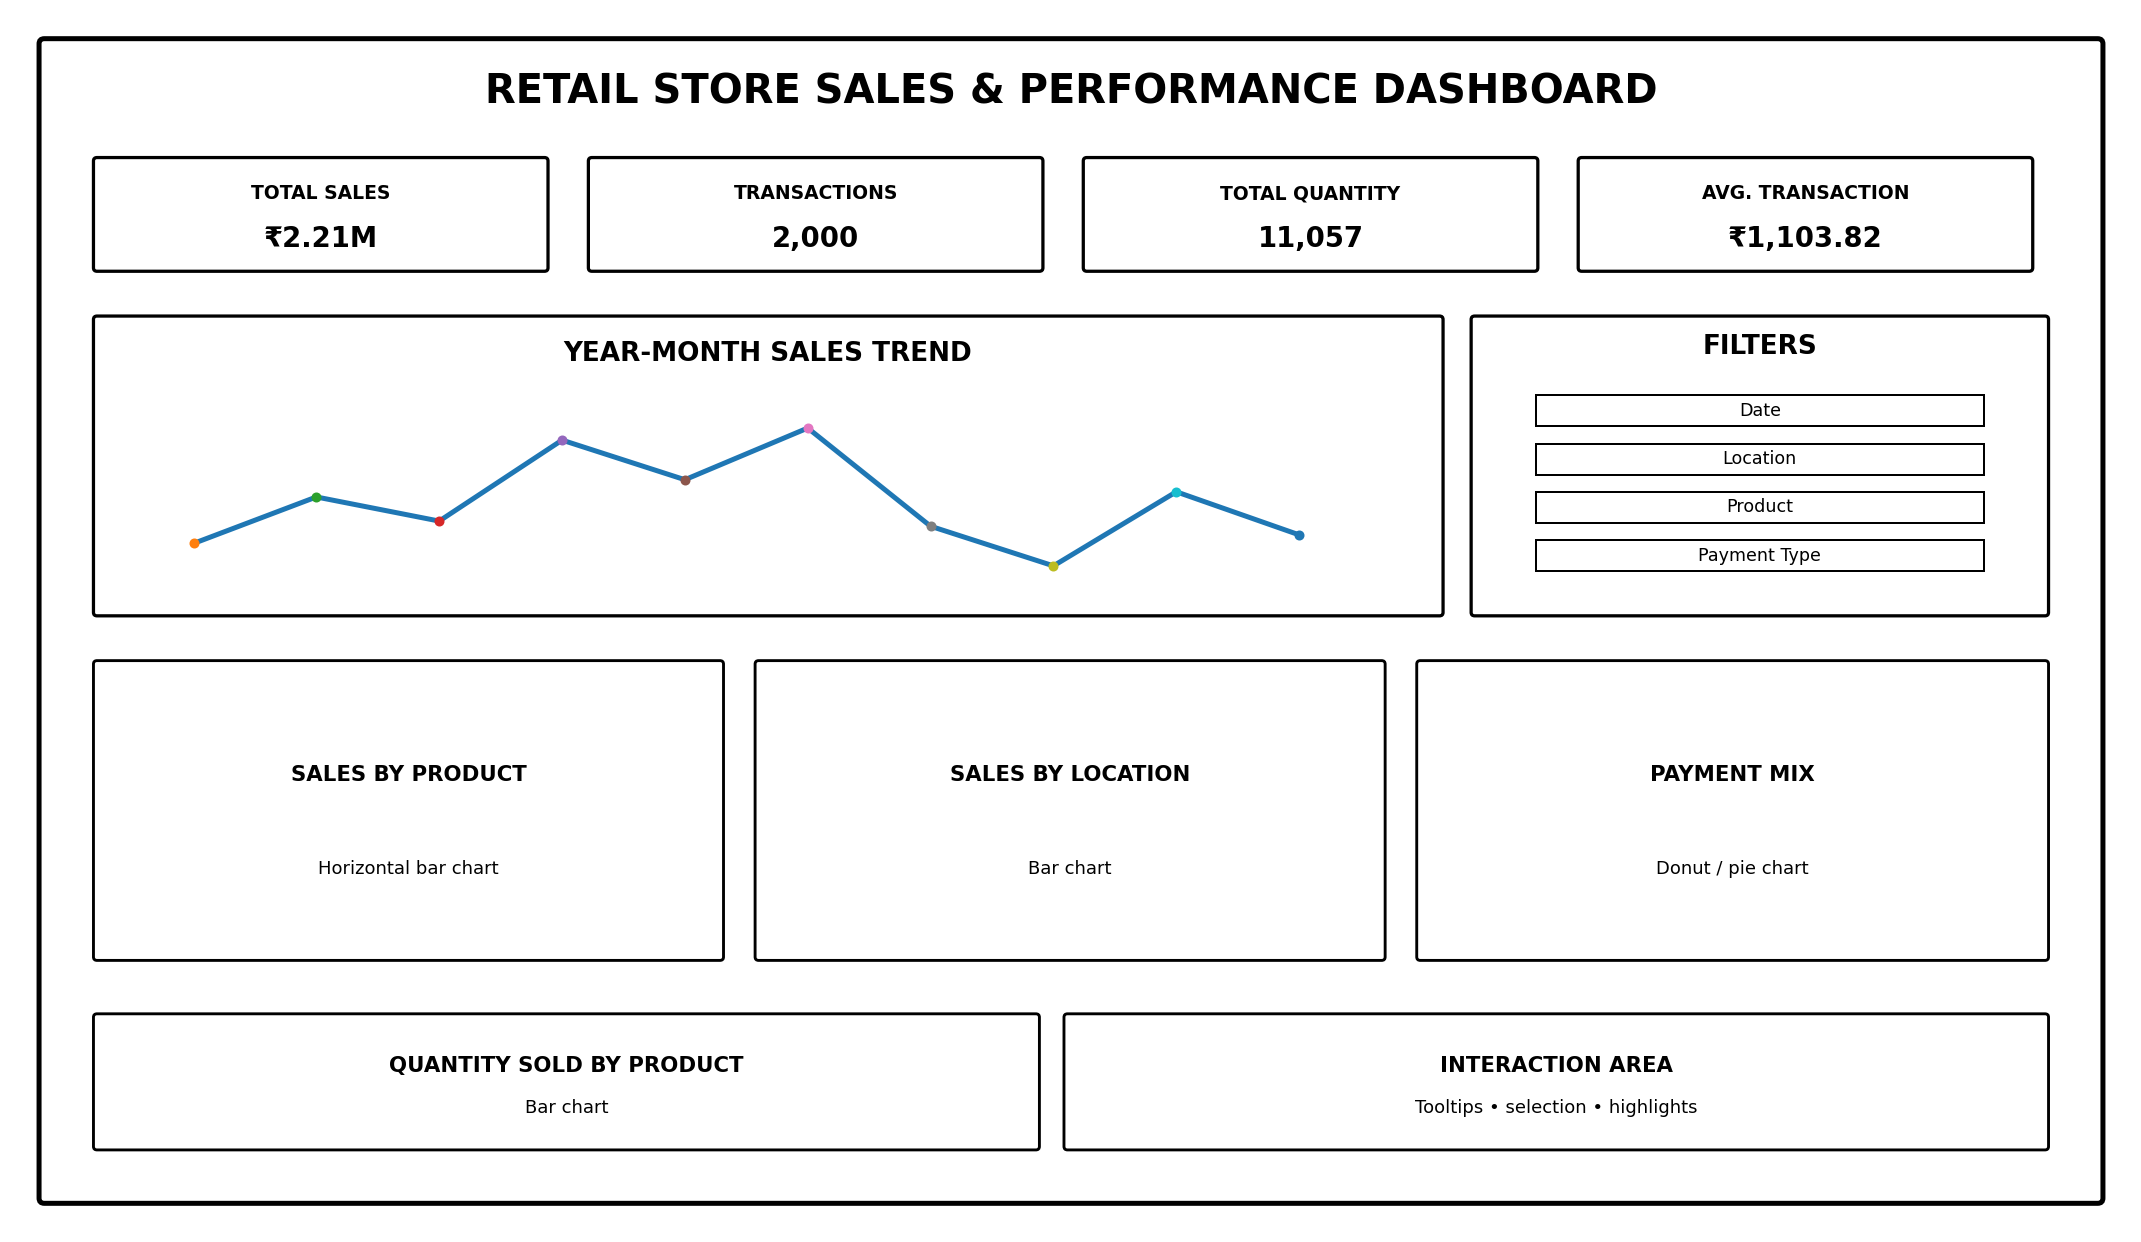

What the dashboard file says about the page in this screenshot:
{"tool":"tableau","page":{"name":"Retail StoreSales Dashboard","canvas":[1000,1000],"units":"permille","ordinal":0},"visuals":[{"type":"title","box":[7.8,9.4,984.3,62.2]},{"type":"worksheet","title":"Monthly Sales Trend","mark":"Automatic","rows":["TotalPrice"],"cols":["Date"],"box":[7.8,71.6,984.3,334.5]},{"type":"worksheet","title":"Sales by Product","mark":"Automatic","rows":["TotalPrice"],"cols":["Product"],"box":[7.8,406.1,684.3,307.5]},{"type":"worksheet","title":"Payment Mix","mark":"Pie","box":[692.2,406.1,300,307.5]},{"type":"worksheet","title":"Sales by Location","mark":"Automatic","rows":["TotalPrice"],"cols":["Location"],"box":[7.8,713.6,492.2,277]},{"type":"worksheet","title":"Qunatity Sold by Product","mark":"Automatic","rows":["Quantity"],"cols":["Product"],"box":[500,713.6,492.2,277]}]}

Visuals, with their boxes on the dashboard's canvas, which has no fixed pixel size, in thousandths of its width and height (x1, y1, x2, y2). These are canvas units, not pixel positions in the 2141x1242 screenshot, which may show the page scaled, cropped or inside an application window:
title: (left=8, top=9, right=992, bottom=72)
"Monthly Sales Trend" worksheet: (left=8, top=72, right=992, bottom=406)
"Sales by Product" worksheet: (left=8, top=406, right=692, bottom=714)
"Payment Mix" worksheet (Pie marks): (left=692, top=406, right=992, bottom=714)
"Sales by Location" worksheet: (left=8, top=714, right=500, bottom=991)
"Qunatity Sold by Product" worksheet: (left=500, top=714, right=992, bottom=991)
